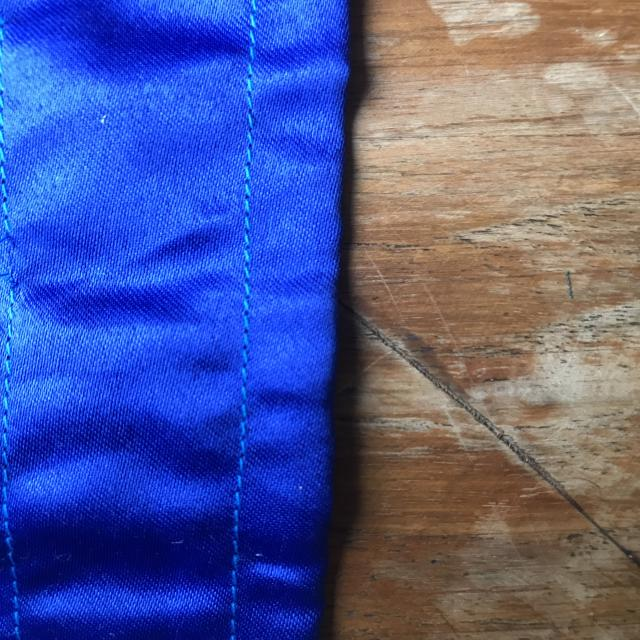good: (231, 125, 265, 337)
